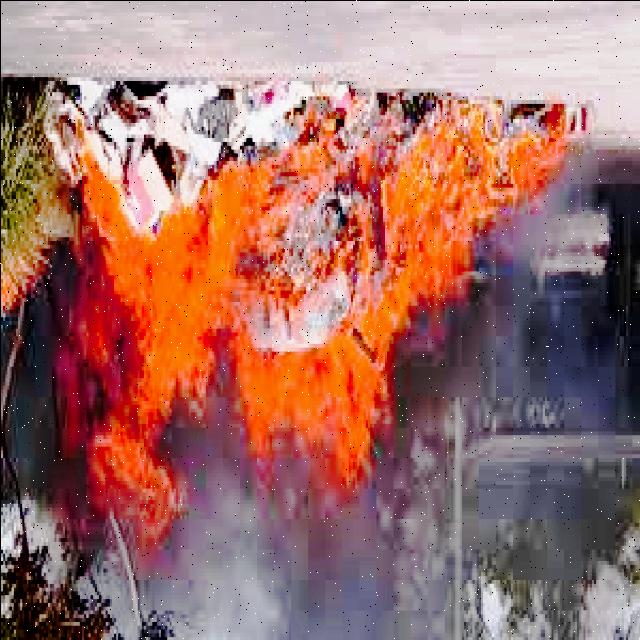api: (264, 108, 582, 523), (56, 161, 253, 515)
